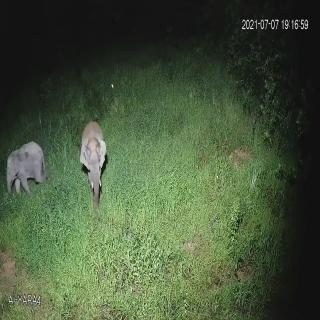Elephant: (5, 135, 50, 208), (78, 113, 113, 203)
